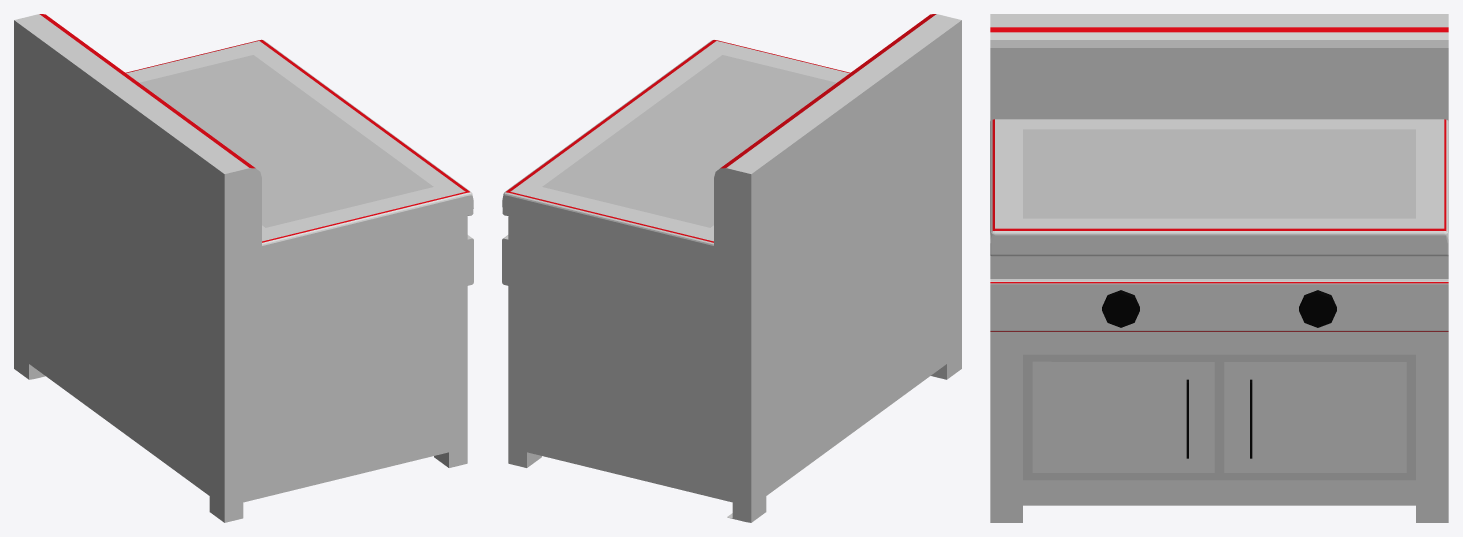
Rendered from Stove.fbx.
3 renders of one model, left to right at view 1: azimuth 30°, elevation 25°; view 2: azimuth 150°, elevation 25°; view 3: azimuth 270°, elevation 25°, orthographic. The views are drawn at different scales.
Parts seen in each view (by area): view 1: Cube; view 2: Cube; view 3: Cube.
Part boxes in pixels (bbox=[...]): Cube: bbox=[14, 14, 473, 522]; Cube: bbox=[502, 14, 961, 522]; Cube: bbox=[990, 14, 1448, 522].
Bounding box in the file's own units: 420 × 549 × 600.
